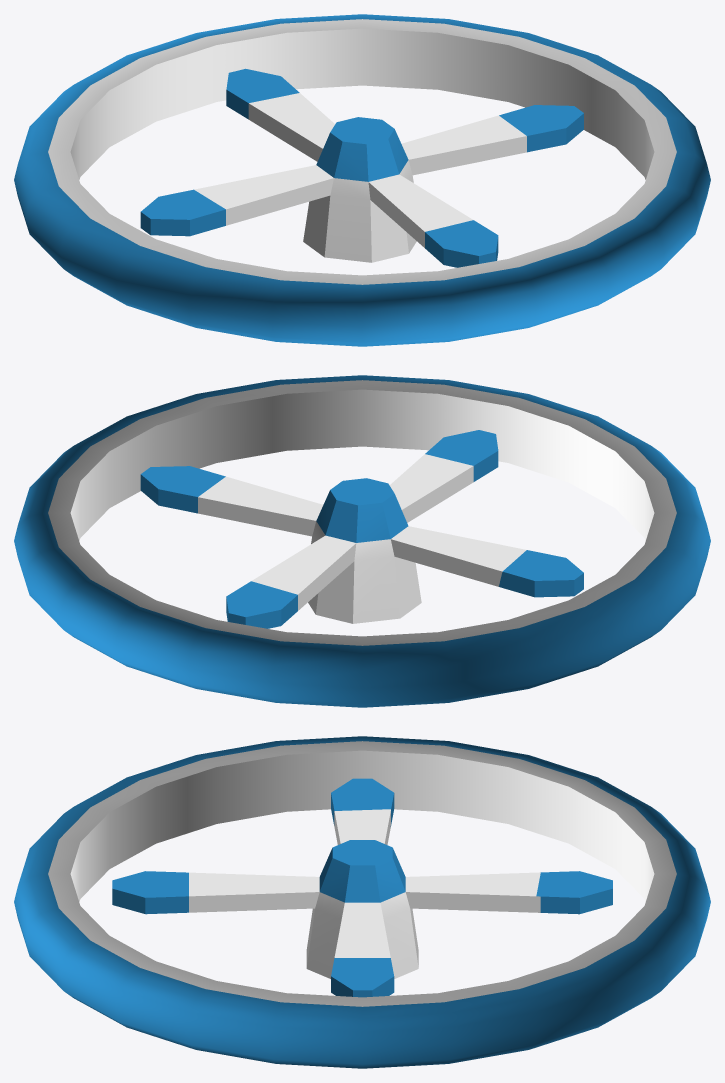
Rendered from drone.fbx.
The picture shows the model from 3 angles, top to bottom: view 1: azimuth 30°, elevation 25°; view 2: azimuth 150°, elevation 25°; view 3: azimuth 270°, elevation 25°; orthographic projection.
Visible parts, largest first — view 1: Torus03_8, detail_propeller_3; view 2: Torus03_8, detail_propeller_3; view 3: Torus03_8, detail_propeller_3.
Boxes of the visible parts, x1,y1,x2,y2 form: Torus03_8: (14,14,710,346); detail_propeller_3: (140,68,583,267); Torus03_8: (14,375,710,707); detail_propeller_3: (140,430,583,628); Torus03_8: (14,736,710,1068); detail_propeller_3: (112,778,612,997).
Size of the model in its own units: 1.39 by 0.2361 by 1.39.
